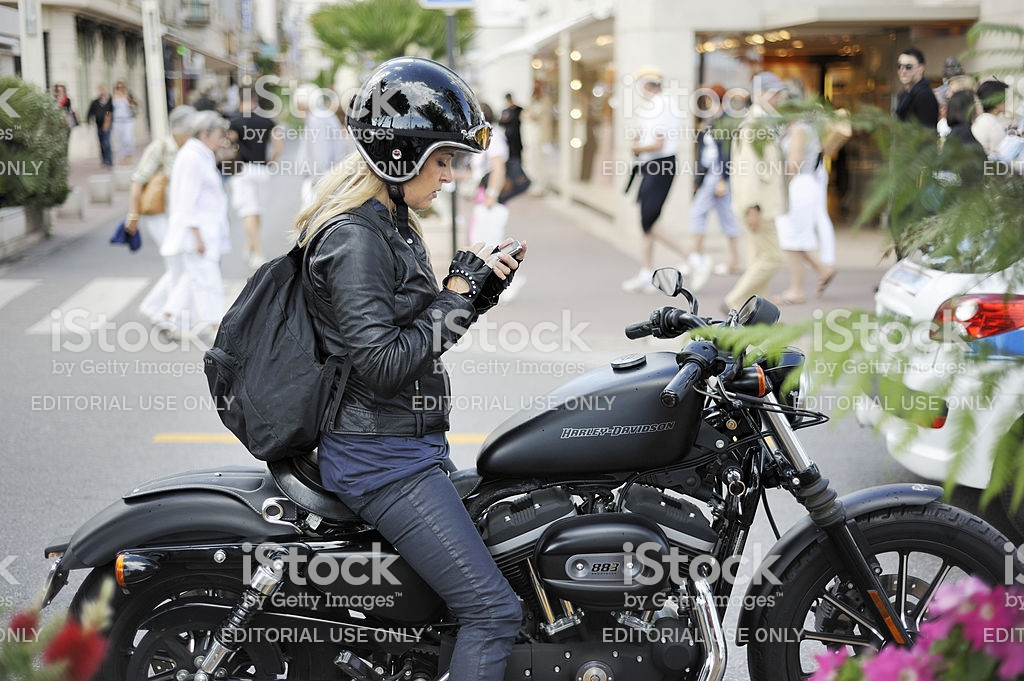helmet: (350, 51, 502, 171)
